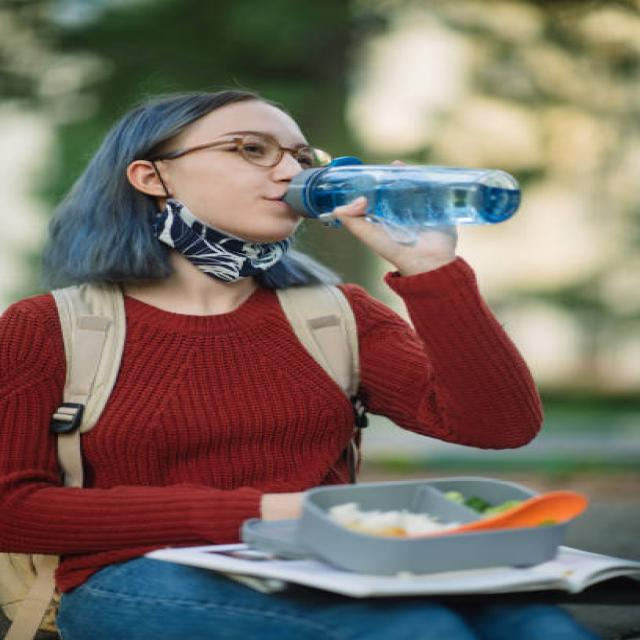blue_bottle: (278, 157, 532, 232)
